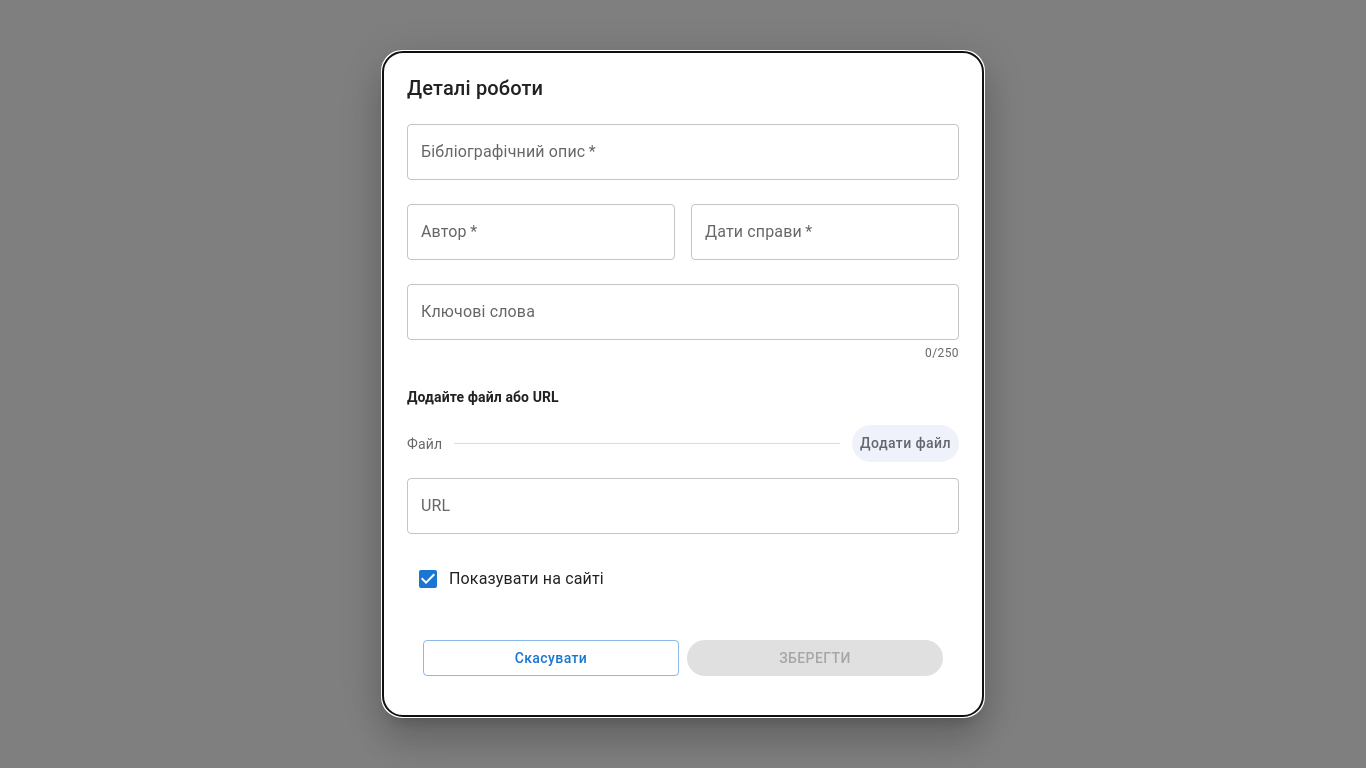
Test: ResearchModalView › disables Save and shows helper text for an invalid URL after blur
Type "Опис" into the text box labelled "Бібліографічний опис *" at coordinates (683, 152), box [421,140,945,163]
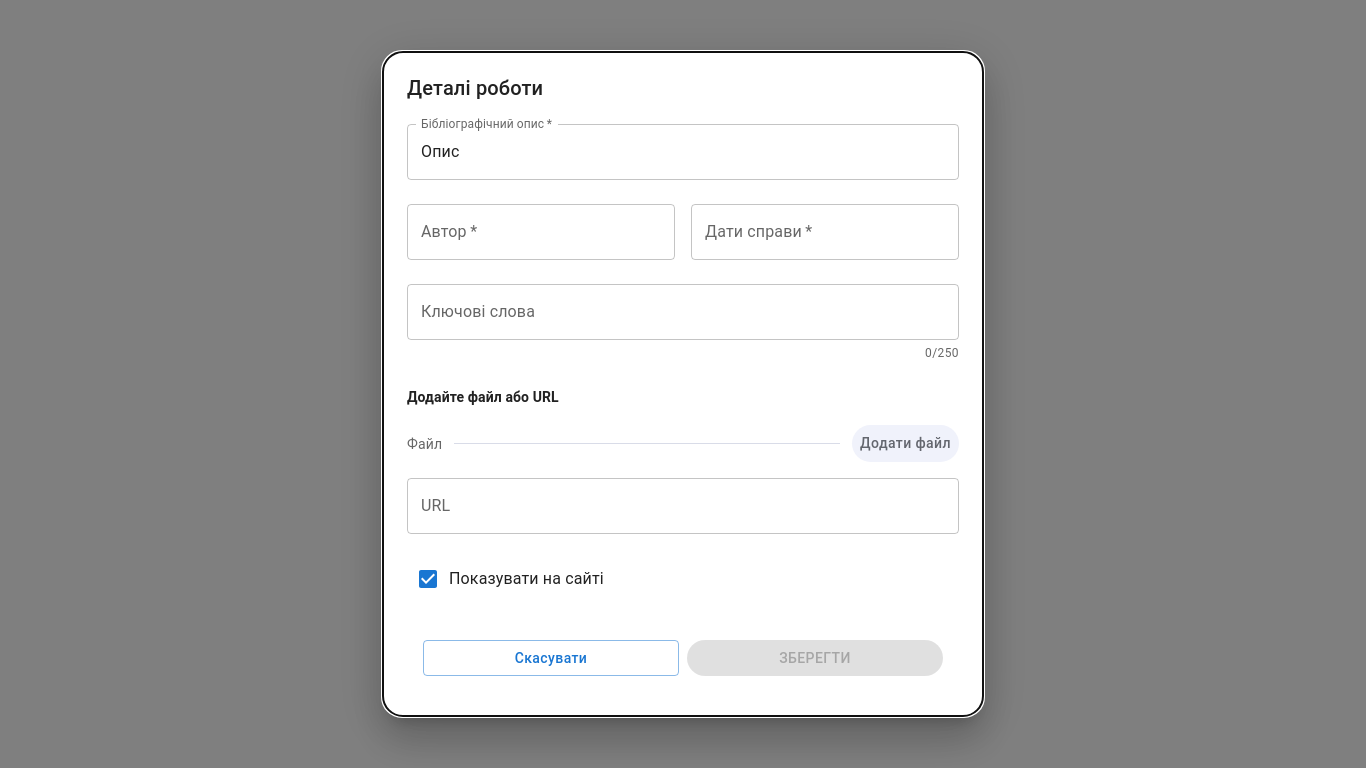
Type "Автор" into the dropdown labelled "Автор *" at coordinates (541, 232), box [416,213,666,251]
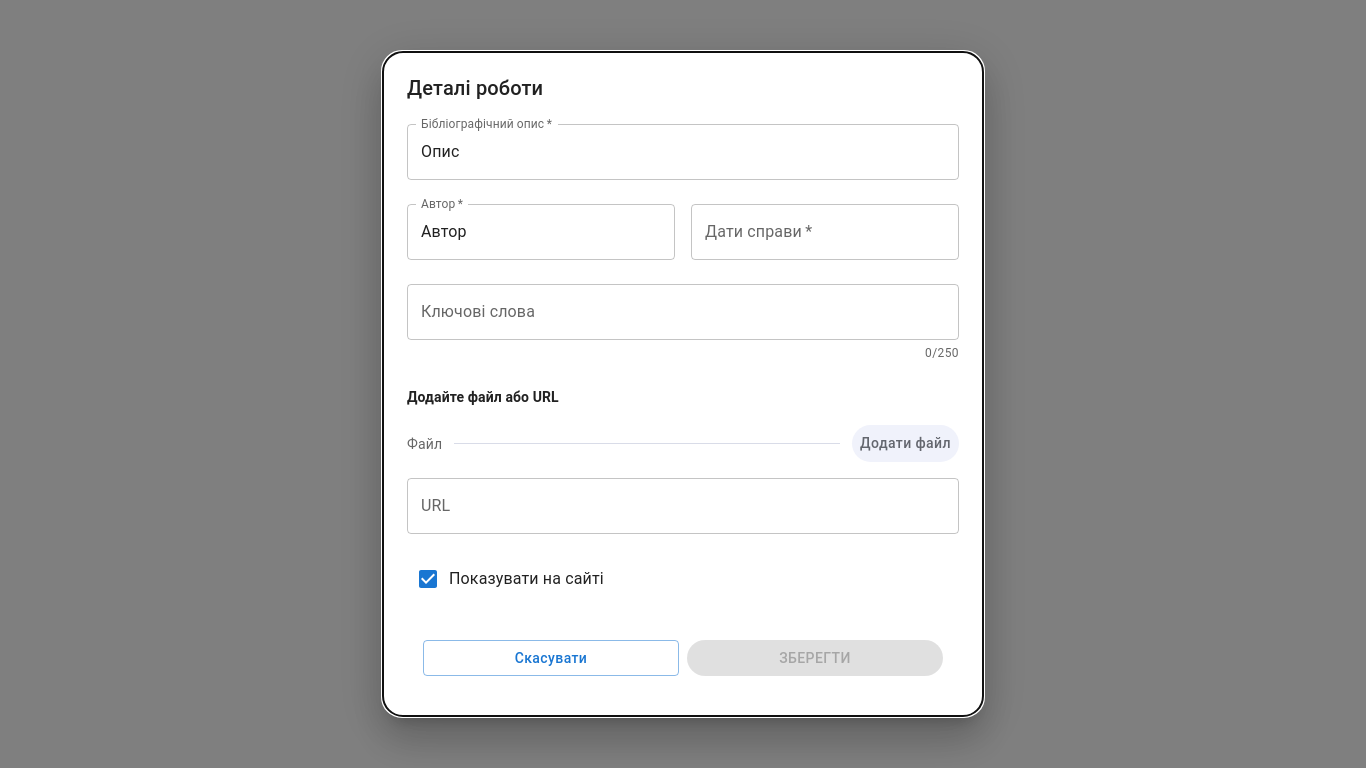
Type "1970" into the field labelled "Дати справи *" at coordinates (825, 232), box [691,204,959,260]
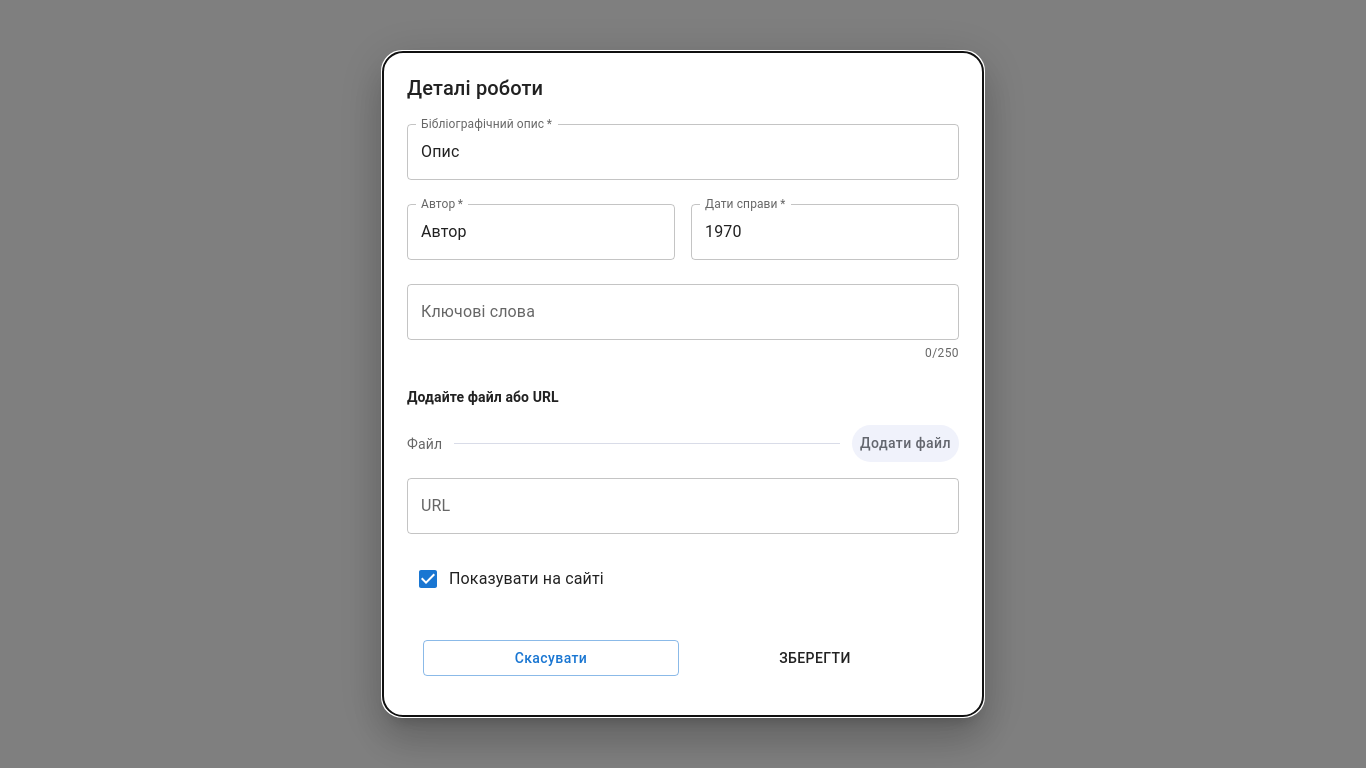
Type "not-a-url" into the field labelled "URL" at coordinates (683, 506), box [407,478,959,534]
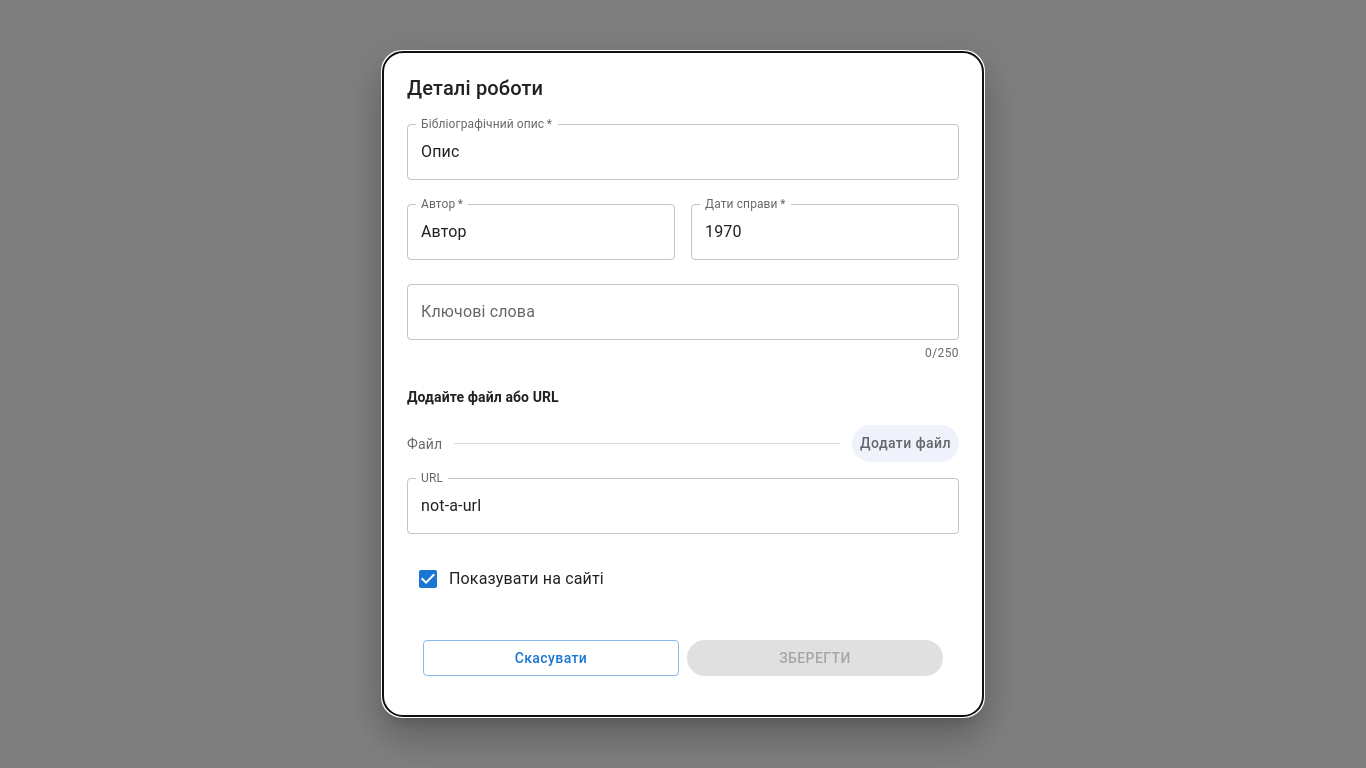
Leave the field labelled "URL", box [407,478,959,534]
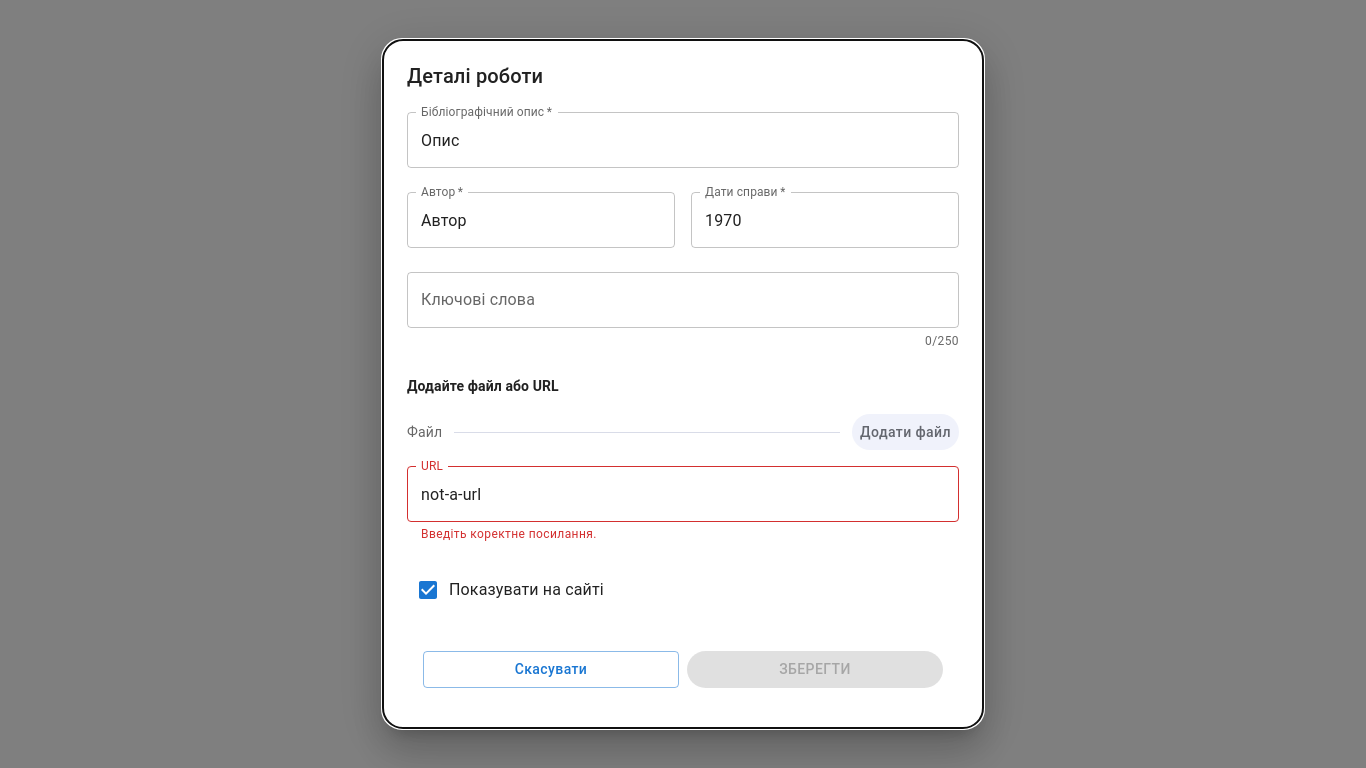
Expected: the button "Зберегти" is disabled, [687,651,943,688]
Expected: the text "Введіть коректне посилання." is shown, [421,528,597,542]
